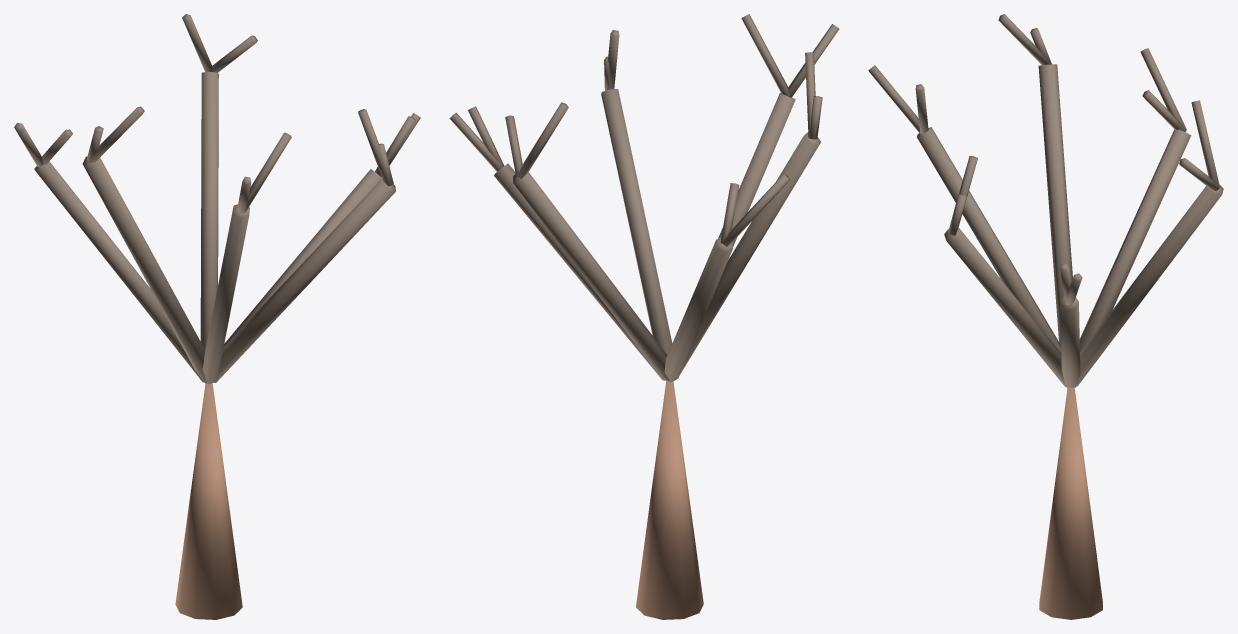
The model's file is tree_a_winter.glb.
3 renders of one model, left to right at view 1: azimuth 30°, elevation 25°; view 2: azimuth 150°, elevation 25°; view 3: azimuth 270°, elevation 25°, orthographic. The views are drawn at different scales.
Parts seen in each view (by area): view 1: branches, trunk; view 2: branches, trunk; view 3: branches, trunk.
Part boxes in pixels (x1,y1,x2,y2): branches: (14, 14, 420, 384); trunk: (175, 383, 242, 619); branches: (449, 14, 839, 382); trunk: (636, 380, 703, 619); branches: (868, 14, 1223, 387); trunk: (1039, 387, 1102, 619).
Size of the model in its own units: 4.04 by 5.73 by 3.41.
